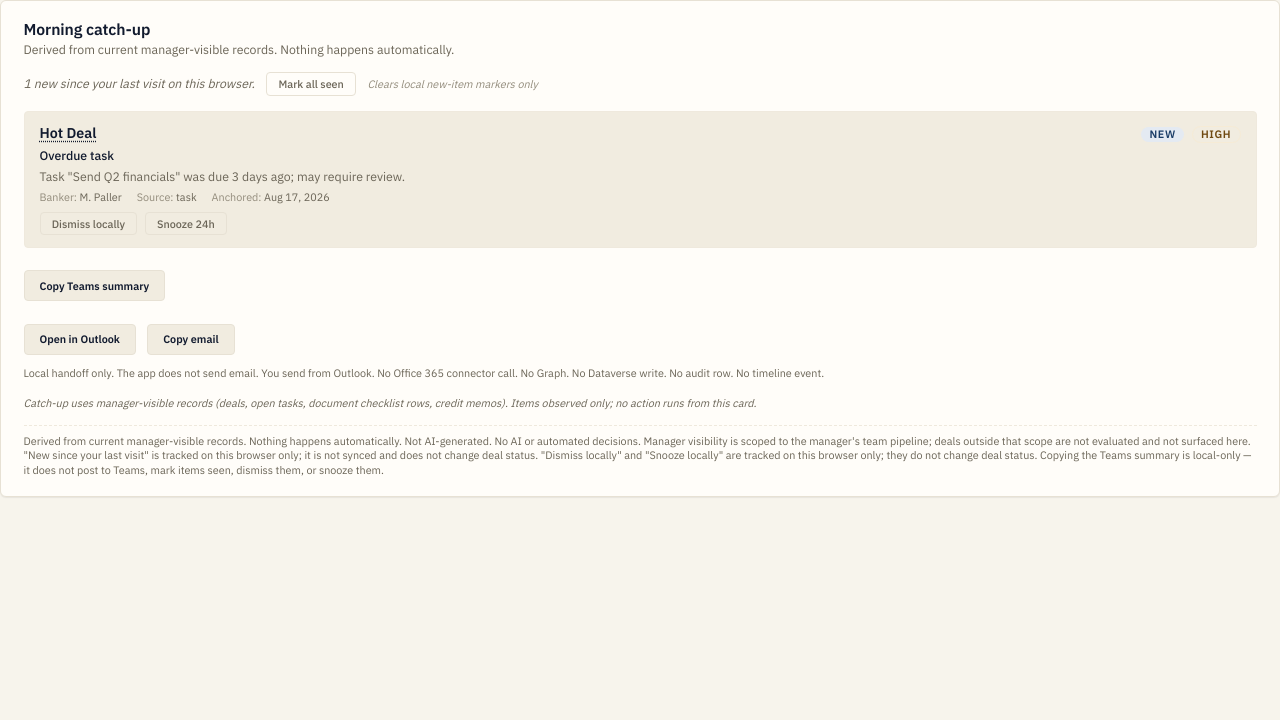
Test case: ManagerMorningCatchUp — Phase 88 › Phase 94 — Mark all seen › clicking clears the "N new" count line + "New" badges immediately
Expected: the text "1 new since your last visit on this browser." is shown, [24,75,255,91]
Expected: the text named "New since your last visit on this browser" is shown, [1141,127,1184,142]
Click the button with aria-label "Mark all catch-up items seen on this browser" at [311, 84], box [266,72,356,96]
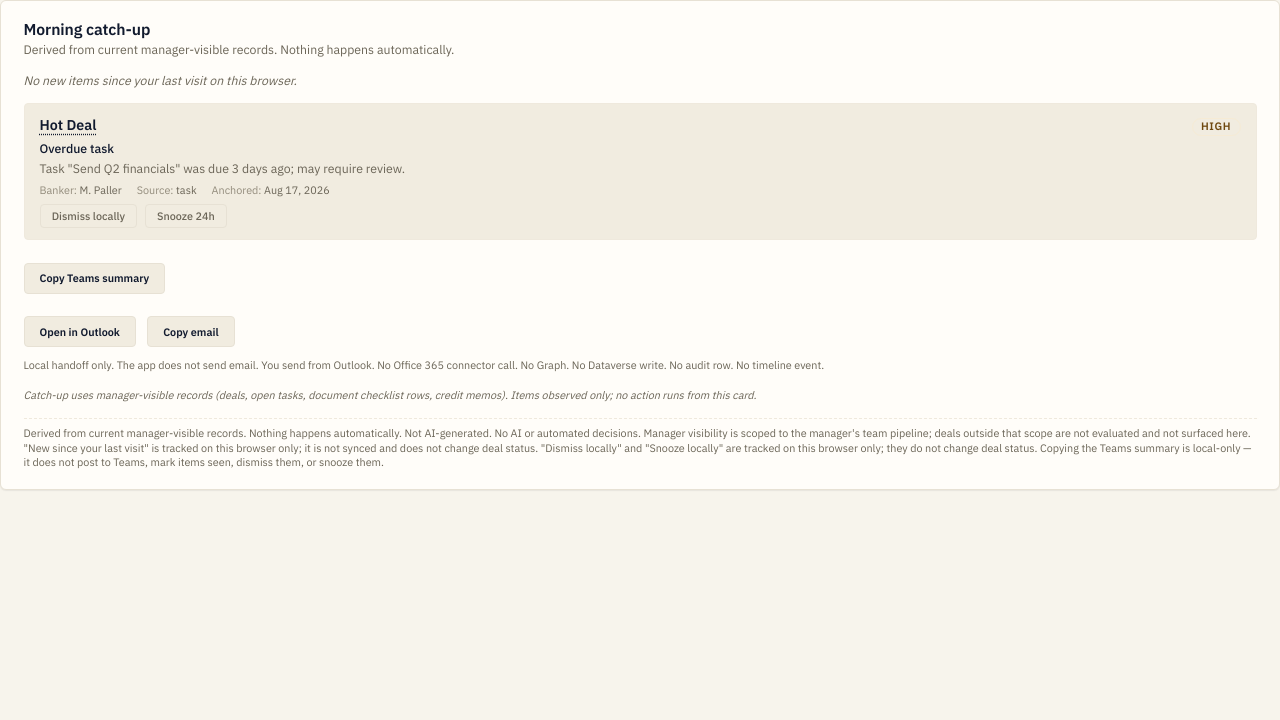
Result: the text "No new items since your last visit on this browser." is shown at [24,72,297,88]
Result: the text labelled "new since your last visit on this browser" is gone
